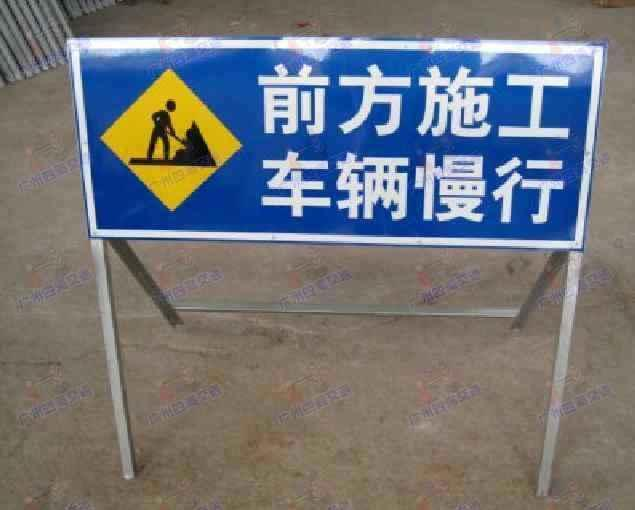sign: (71, 42, 596, 252)
